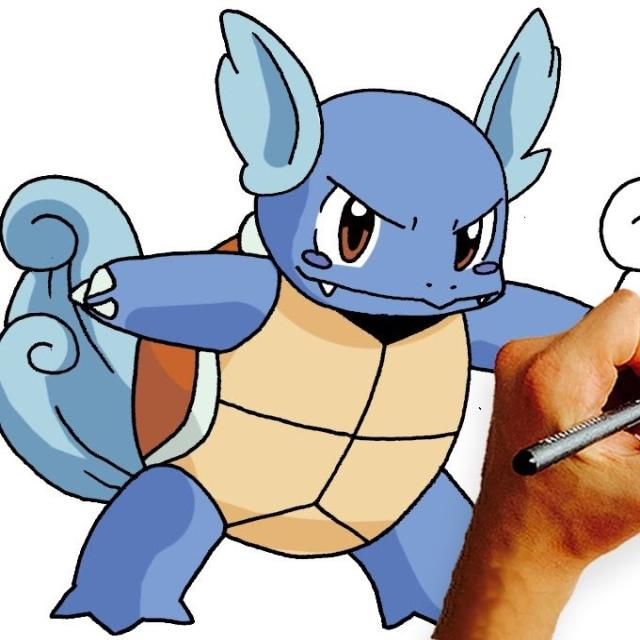Wartortle: (115, 5, 557, 632)
